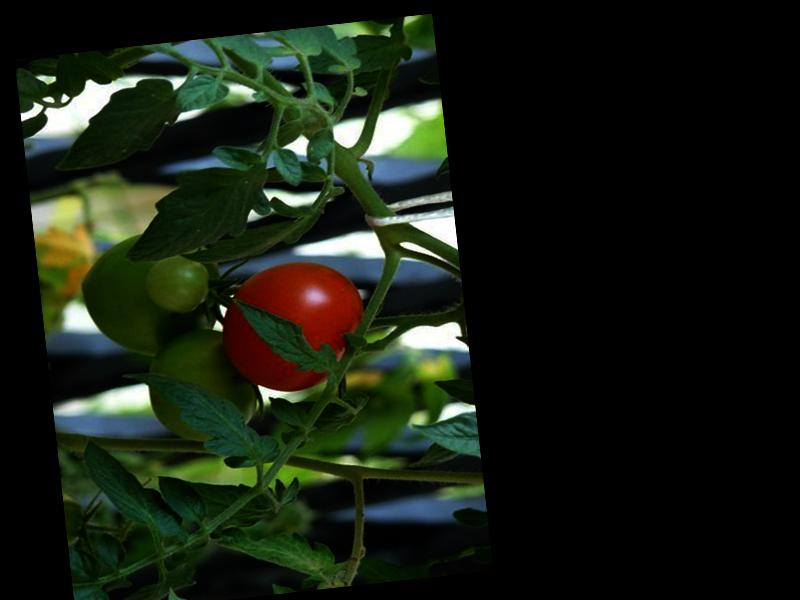Tomato: (217, 255, 372, 397)
